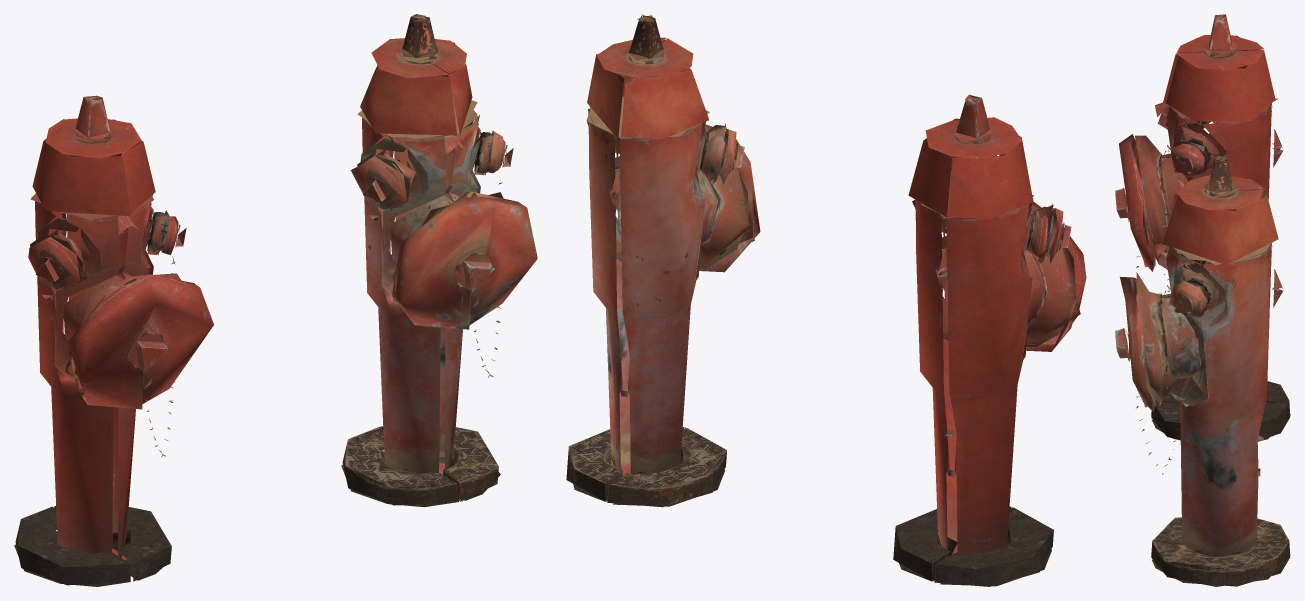
File: fire_hydrant.glb
3 views of the same model, side by side, from view 1: azimuth 30°, elevation 25°; view 2: azimuth 150°, elevation 25°; view 3: azimuth 270°, elevation 25° (orthographic). The views are drawn at different scales.
Visible parts, largest first — view 1: fire_hydrant.001; view 2: fire_hydrant.001; view 3: fire_hydrant.001.
Boxes of the visible parts, x1,y1,x2,y2 form: fire_hydrant.001: (14, 14, 537, 586); fire_hydrant.001: (566, 14, 1086, 586); fire_hydrant.001: (1115, 14, 1290, 586).
Bounding box in the file's own units: 0.8728 × 0.8007 × 0.3184.
Materials: 2 (2 with a texture image).
